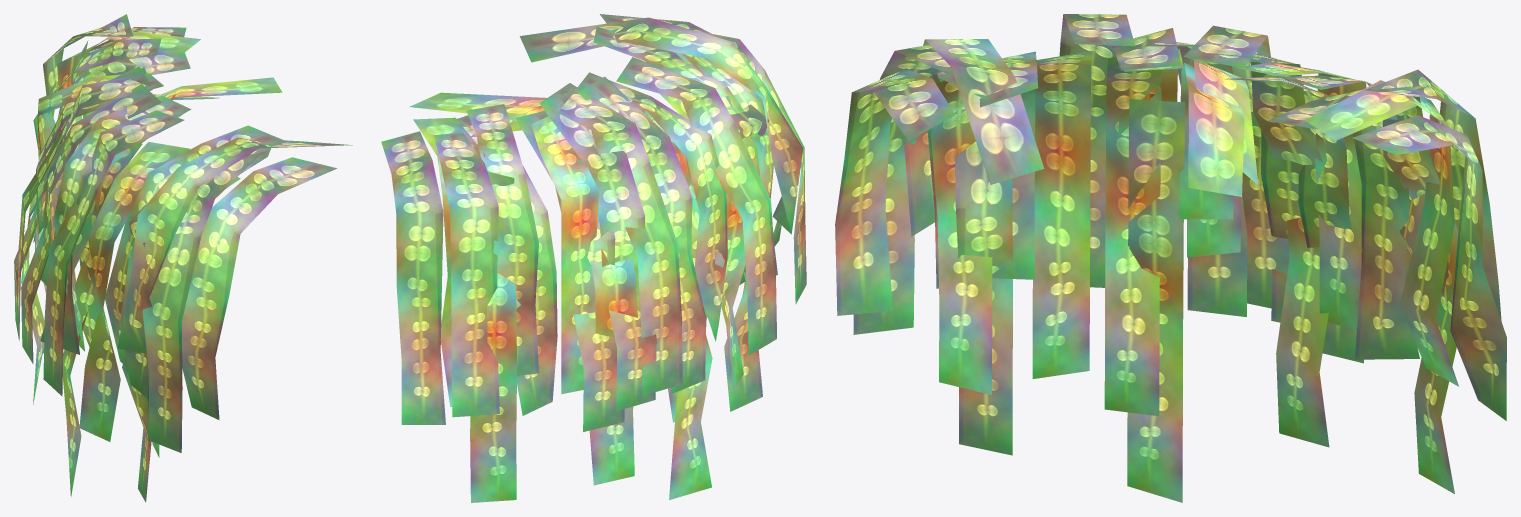
The model's file is creeping_jenny_02_SM.fbx.
3 views of the same model, side by side, from view 1: azimuth 30°, elevation 25°; view 2: azimuth 150°, elevation 25°; view 3: azimuth 270°, elevation 25° (orthographic). The views are drawn at different scales.
Parts seen in each view (by area): view 1: creeping_jenny_02_SM_LOD0; view 2: creeping_jenny_02_SM_LOD0; view 3: creeping_jenny_02_SM_LOD0.
Boxes of the visible parts, x1,y1,x2,y2 form: creeping_jenny_02_SM_LOD0: [14, 14, 352, 502]; creeping_jenny_02_SM_LOD0: [381, 14, 806, 502]; creeping_jenny_02_SM_LOD0: [835, 14, 1506, 502].
Size of the model in its own units: 71.23 by 108 by 90.68.
Materials: 1 (1 with a texture image).
